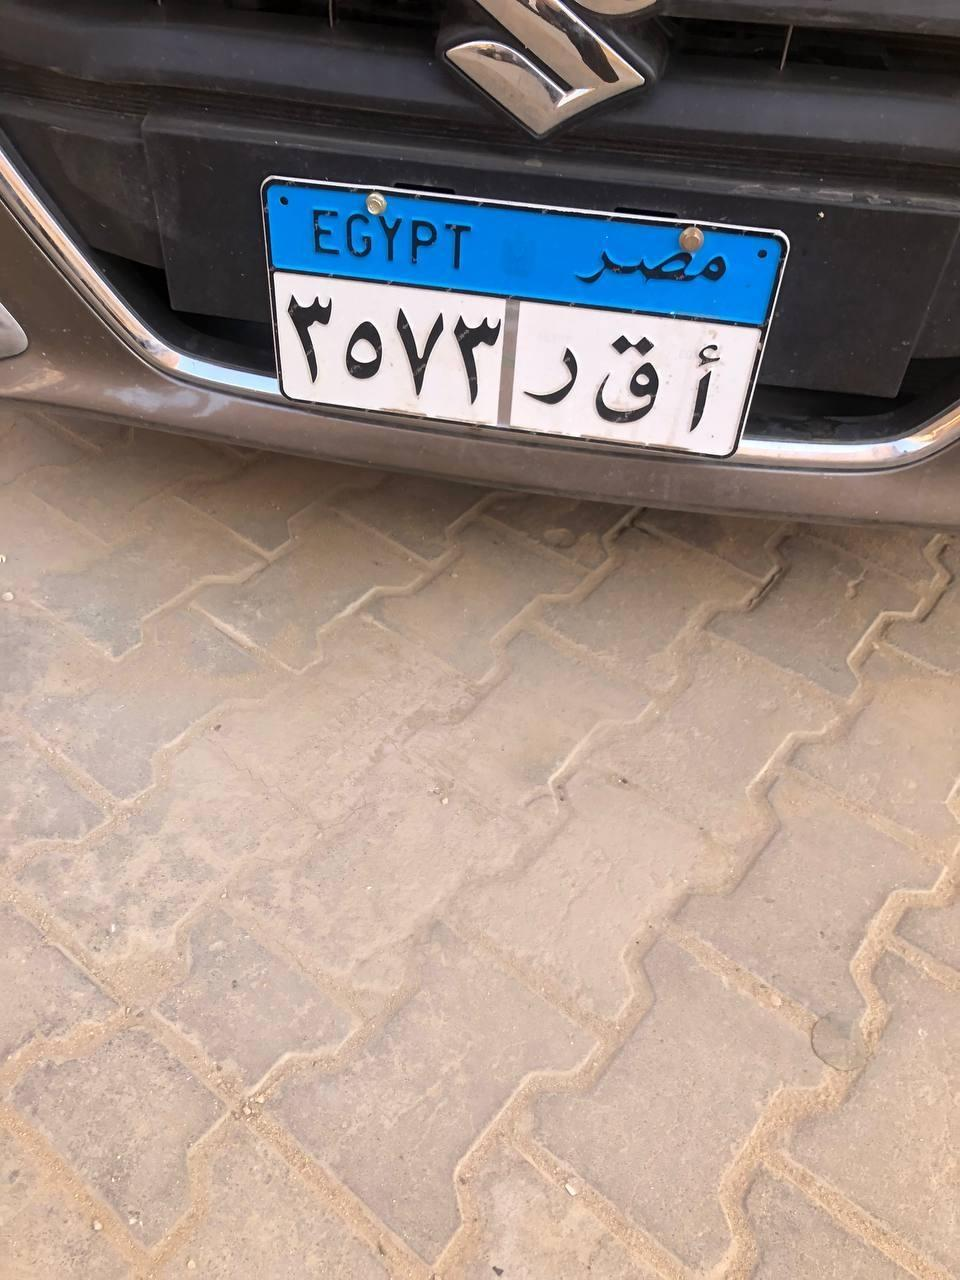3: (282, 285, 334, 393), (450, 310, 504, 412)
5: (340, 320, 389, 380)
7: (391, 308, 448, 394)
License Plate: (258, 172, 804, 468)
Q: (593, 338, 672, 423)
R: (524, 344, 588, 416)
alef: (680, 343, 726, 432)
